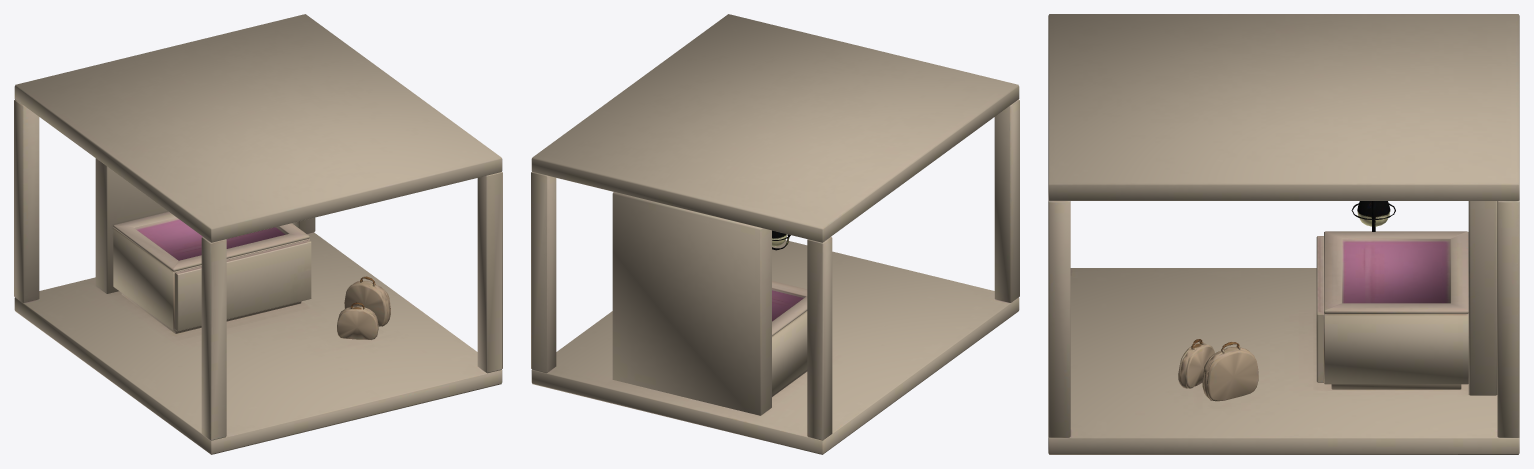
The model's file is original_glb.glb.
The picture shows the model from 3 angles, left to right: view 1: azimuth 30°, elevation 25°; view 2: azimuth 150°, elevation 25°; view 3: azimuth 270°, elevation 25°; orthographic projection. The views are drawn at different scales.
Visible parts, largest first — view 1: Hotel lobby; view 2: Hotel lobby; view 3: Hotel lobby.
Boxes of the visible parts, x1,y1,x2,y2 form: Hotel lobby: (14, 14, 502, 454); Hotel lobby: (531, 14, 1019, 454); Hotel lobby: (1048, 14, 1519, 454).
Size of the model in its own units: 0.8574 by 0.6348 by 0.998.
1 material, 1 textured.
